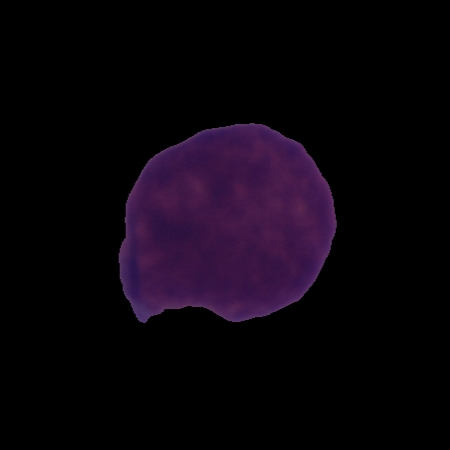ALL: (113, 118, 342, 327)
